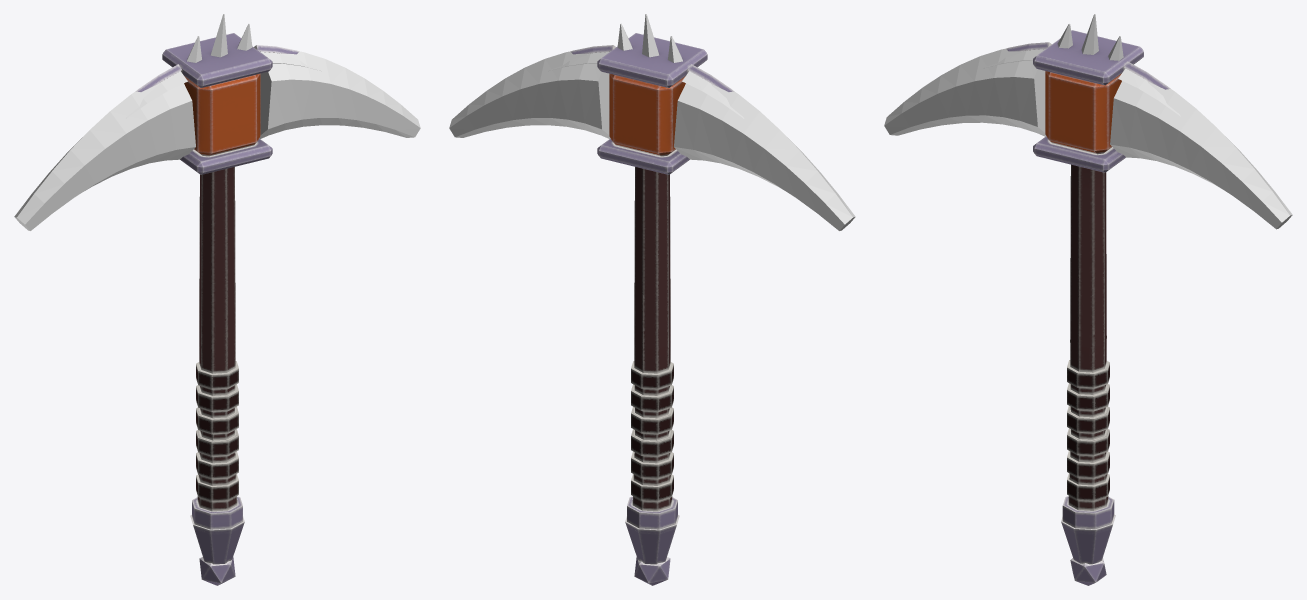
The model's file is FireglassPickaxe.glb.
3 renders of one model, left to right at view 1: azimuth 30°, elevation 25°; view 2: azimuth 150°, elevation 25°; view 3: azimuth 330°, elevation 25°, orthographic.
Visible parts, largest first — view 1: Body__Tex, Head__Crystal, Head__Accent; view 2: Body__Tex, Head__Crystal, Head__Accent; view 3: Body__Tex, Head__Crystal, Head__Accent.
Part boxes in pixels (x1,y1,x2,y2): Body__Tex: (135,33,299,585); Head__Crystal: (14,51,420,230); Head__Accent: (126,14,321,118); Body__Tex: (570,33,734,585); Head__Crystal: (449,51,855,230); Head__Accent: (548,14,743,118); Body__Tex: (1006,30,1170,585); Head__Crystal: (884,48,1292,229); Head__Accent: (984,14,1180,116).
Size of the model in its own units: 3.19 by 4.33 by 0.54.
Materials: 1 (1 with a texture image).
